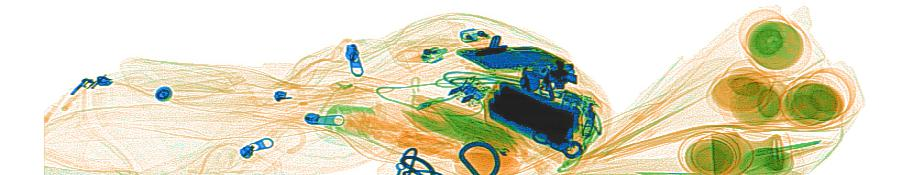lighter: (394, 44, 447, 62), (457, 26, 492, 44)
seal: (745, 19, 803, 72), (709, 131, 784, 171), (710, 66, 773, 113), (783, 81, 842, 127), (732, 78, 783, 125), (684, 134, 736, 174)
